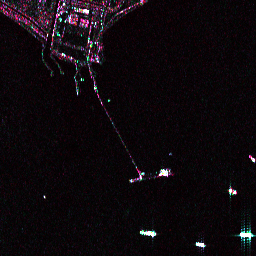ship: (138, 228, 157, 238), (246, 152, 256, 165), (238, 231, 254, 239), (227, 187, 239, 197), (194, 241, 206, 249)
